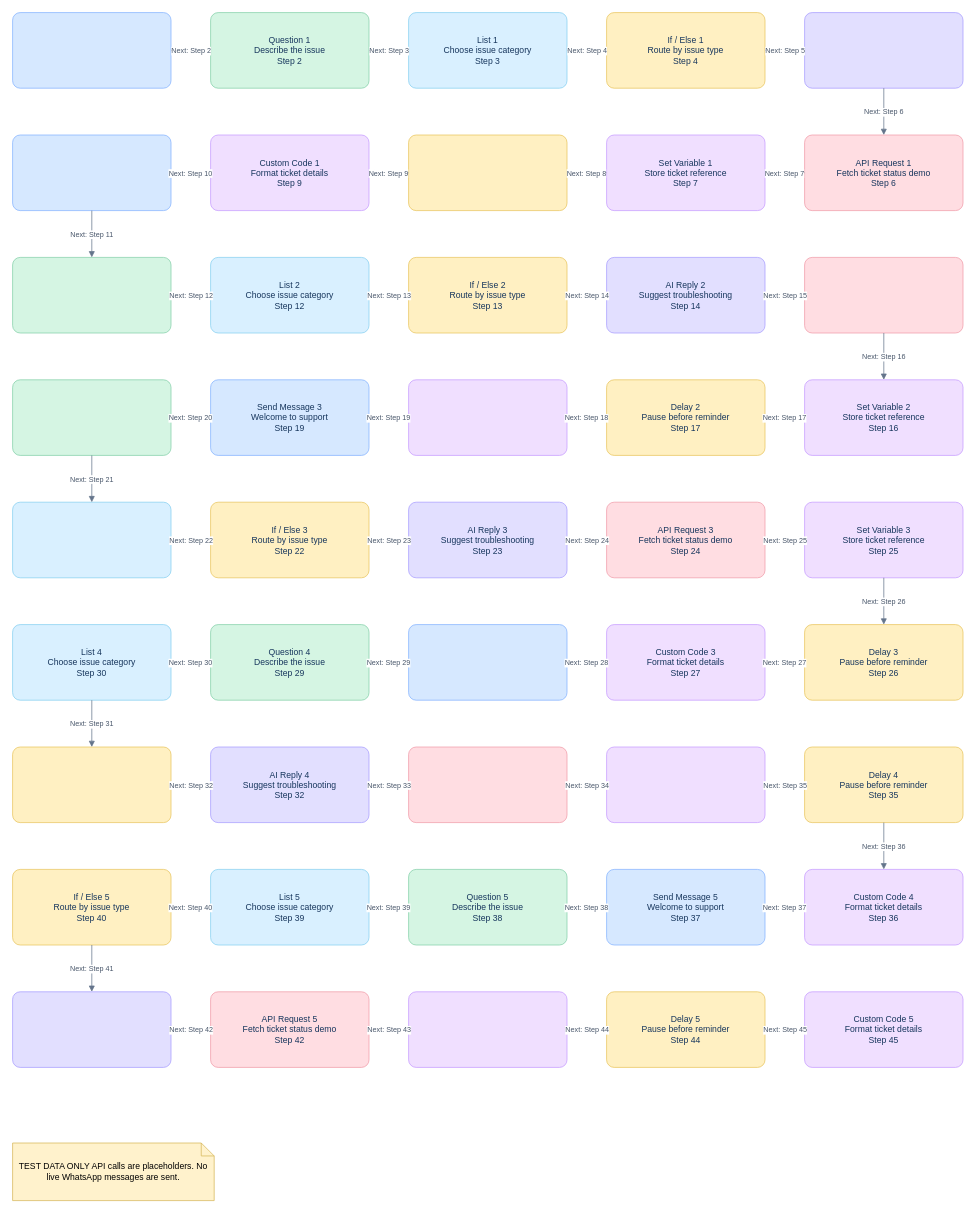
The diagram is 976 pixels wide and 1213 high, and some of its shapes have lost their labels. The shapes that lost their labels are listed below. From the top down, each one's box as (x1, y1, x2, y2) in pixels, then its label:
(12, 12, 171, 88): Send Message 1 Welcome to support Step 1
(804, 12, 963, 88): AI Reply 1 Suggest troubleshooting Step 5
(12, 134, 171, 211): Send Message 2 Welcome to support Step 10
(408, 134, 567, 211): Delay 1 Pause before reminder Step 8
(12, 257, 171, 333): Question 2 Describe the issue Step 11
(804, 257, 963, 333): API Request 2 Fetch ticket status demo Step 15
(12, 379, 171, 455): Question 3 Describe the issue Step 20
(408, 379, 567, 455): Custom Code 2 Format ticket details Step 18
(12, 501, 171, 578): List 3 Choose issue category Step 21
(408, 624, 567, 700): Send Message 4 Welcome to support Step 28
(12, 746, 171, 823): If / Else 4 Route by issue type Step 31
(408, 746, 567, 823): API Request 4 Fetch ticket status demo Step 33
(606, 746, 765, 823): Set Variable 4 Store ticket reference Step 34
(12, 991, 171, 1067): AI Reply 5 Suggest troubleshooting Step 41
(408, 991, 567, 1067): Set Variable 5 Store ticket reference Step 43
